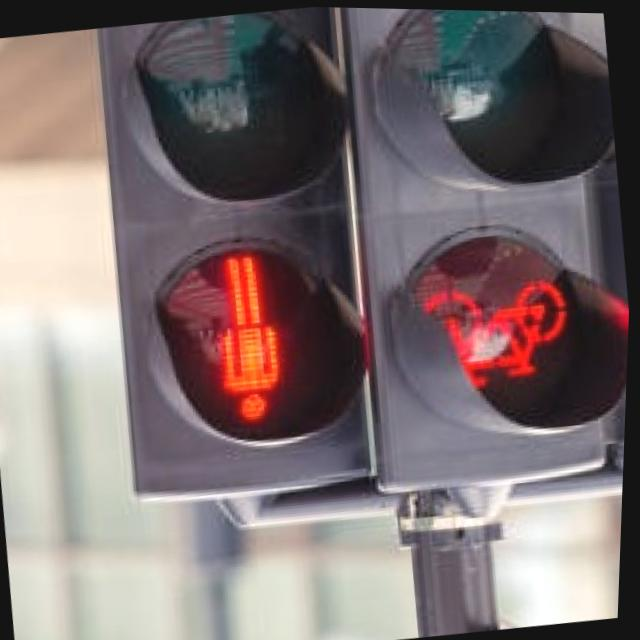red_light: (191, 243, 304, 441)
